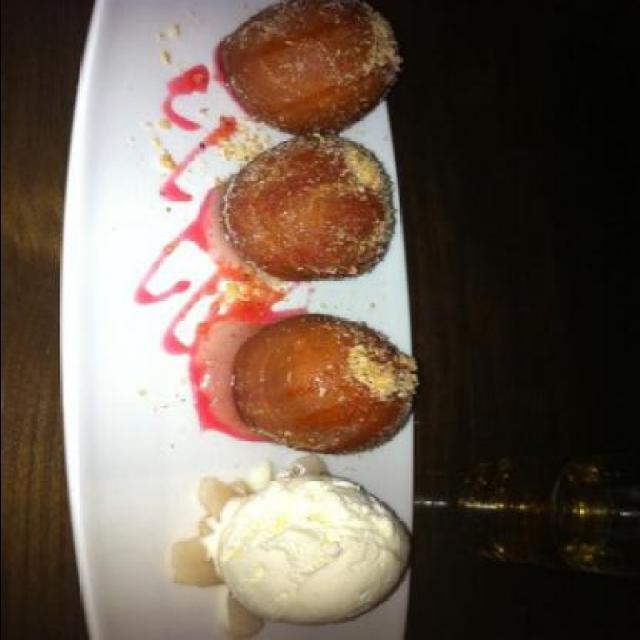Cookie: (168, 475, 420, 639)
Donuts: (204, 3, 416, 460)
